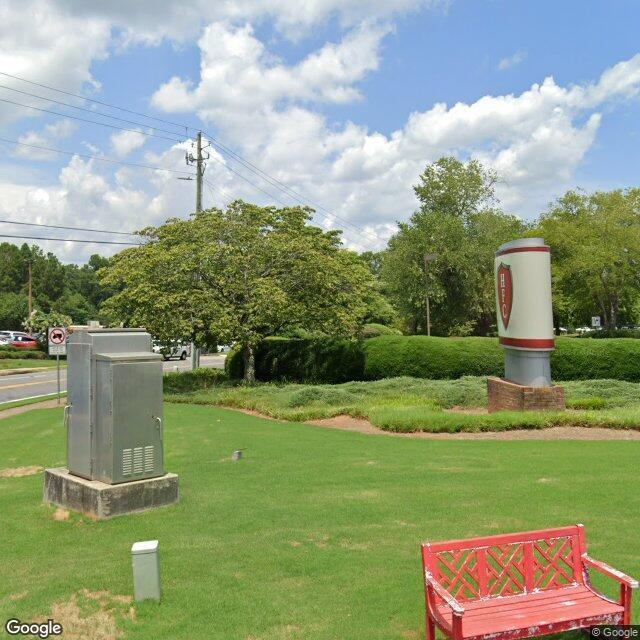seating: (420, 522, 640, 640)
